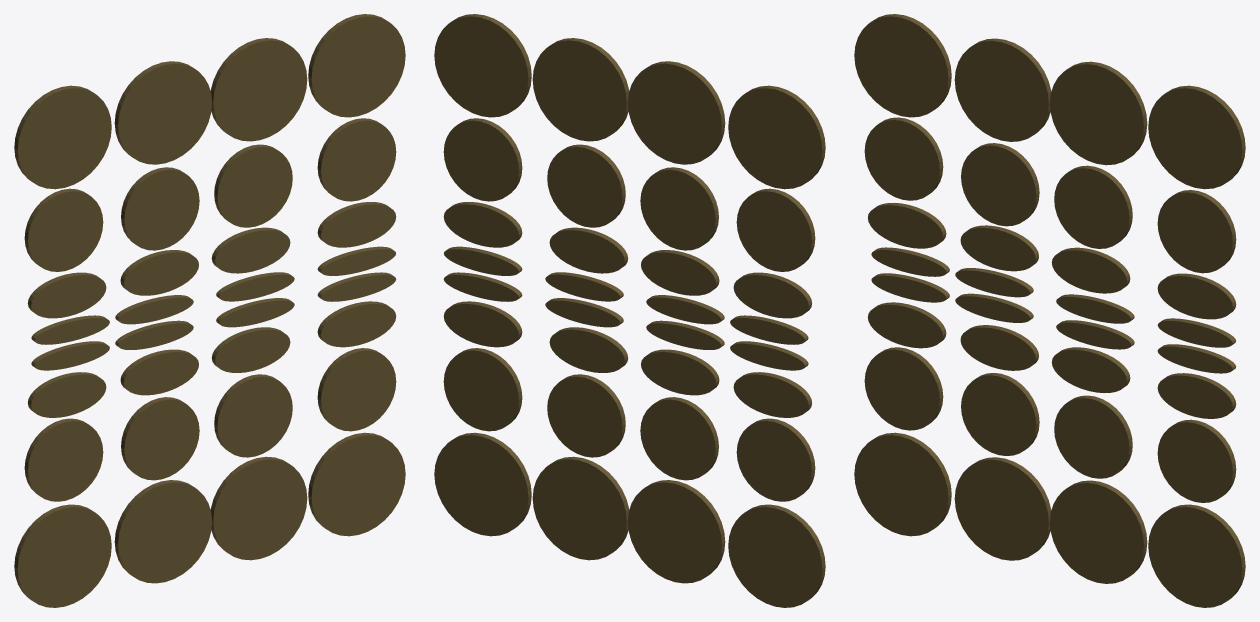
File: secuencialidad.fbx
The picture shows the model from 3 angles, left to right: view 1: azimuth 30°, elevation 25°; view 2: azimuth 150°, elevation 25°; view 3: azimuth 330°, elevation 25°; orthographic projection.
Parts seen in each view (by area): view 1: VR Headset.030; view 2: VR Headset.030; view 3: VR Headset.030.
Part boxes in pixels (x1=…): VR Headset.030: x1=14, y1=14, x2=405, y2=607; VR Headset.030: x1=434, y1=14, x2=825, y2=607; VR Headset.030: x1=854, y1=14, x2=1245, y2=607.
Size of the model in its own units: 165 by 210 by 2.5.
